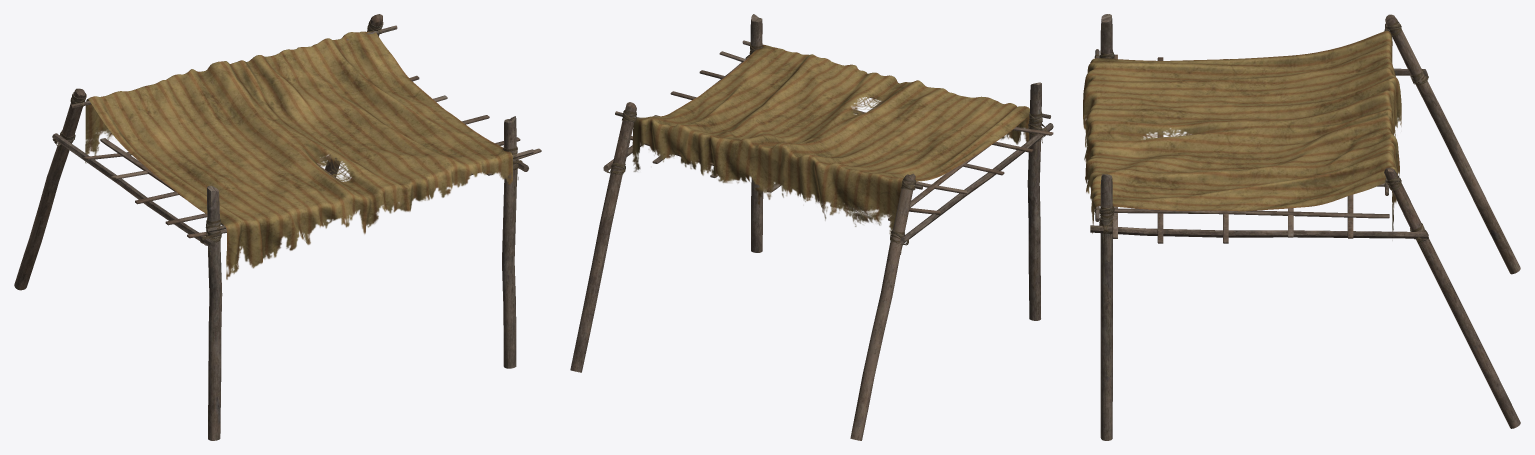
The model's file is xi_dep_tent.gltf.
3 renders of one model, left to right at view 1: azimuth 30°, elevation 25°; view 2: azimuth 150°, elevation 25°; view 3: azimuth 270°, elevation 25°, orthographic. The views are drawn at different scales.
Visible parts, largest first — view 1: xi_dep_tent; view 2: xi_dep_tent; view 3: xi_dep_tent.
Boxes of the visible parts, x1,y1,x2,y2 form: xi_dep_tent: (14, 14, 541, 440); xi_dep_tent: (570, 14, 1053, 440); xi_dep_tent: (1083, 14, 1520, 440).
Size of the model in its own units: 5.15 by 3.55 by 5.22.
Materials: 2 (2 with a texture image).
